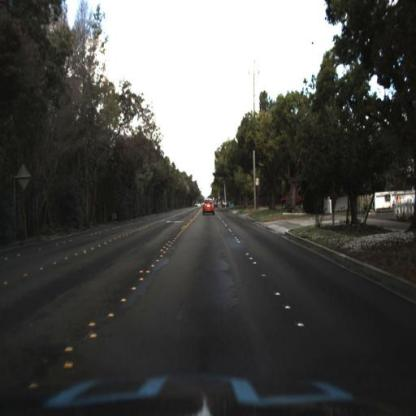car: (280, 185, 311, 212), (201, 192, 219, 221)
